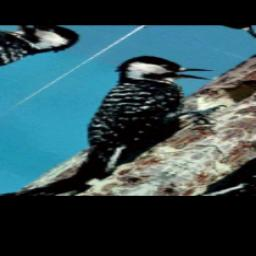Woodpecker: (0, 45, 256, 188)
